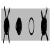correct: (14, 12, 23, 39)
no answer: (28, 14, 36, 38)
not correct: (40, 5, 50, 48), (2, 5, 10, 47)
